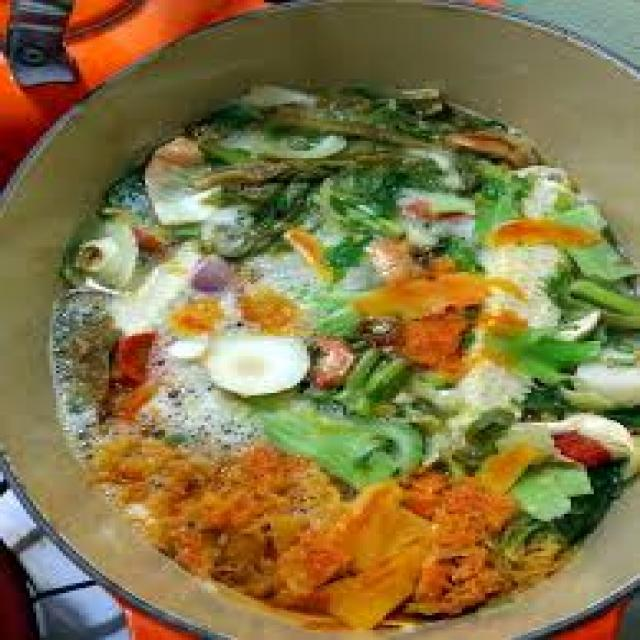Wet: (49, 97, 640, 640), (179, 308, 346, 426)
